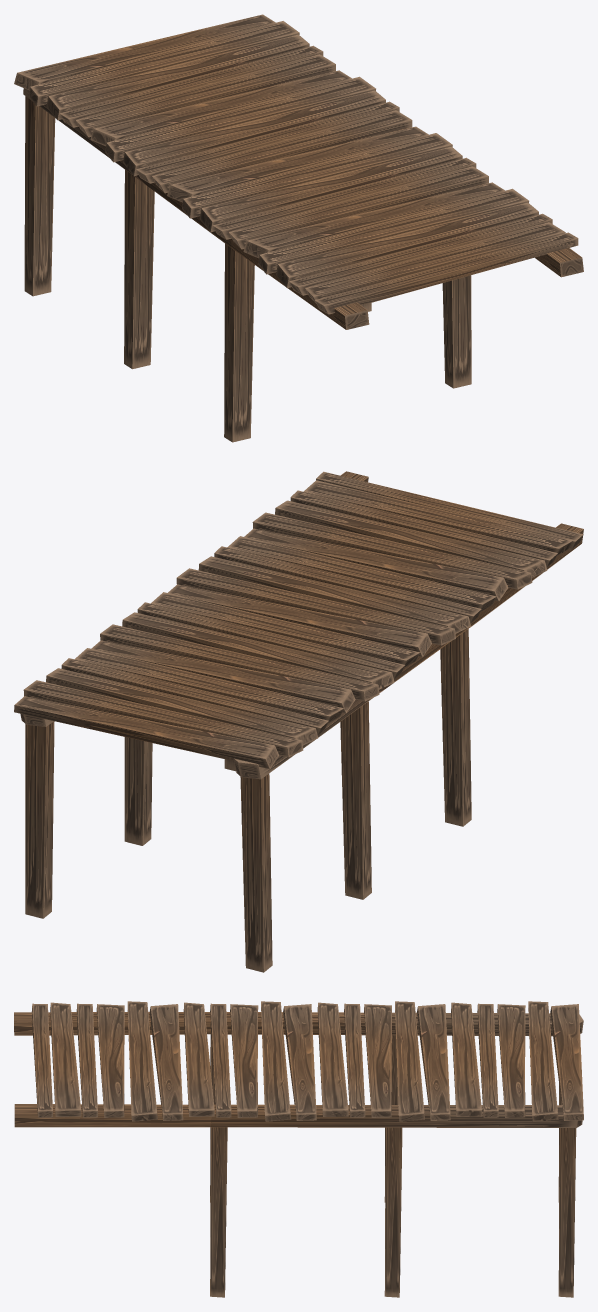
Rendered from pierA_extension.fbx.
The picture shows the model from 3 angles, top to bottom: view 1: azimuth 30°, elevation 25°; view 2: azimuth 150°, elevation 25°; view 3: azimuth 270°, elevation 25°; orthographic projection. The views are drawn at different scales.
Parts seen in each view (by area): view 1: pierA_extension; view 2: pierA_extension; view 3: pierA_extension.
Part boxes in pixels (box(x1,y1,x2,y2)): pierA_extension: box(14, 14, 583, 442); pierA_extension: box(14, 471, 583, 972); pierA_extension: box(14, 1001, 583, 1297).
Bounding box in the file's own units: 308 × 242 × 658.
Materials: 1 (1 with a texture image).
